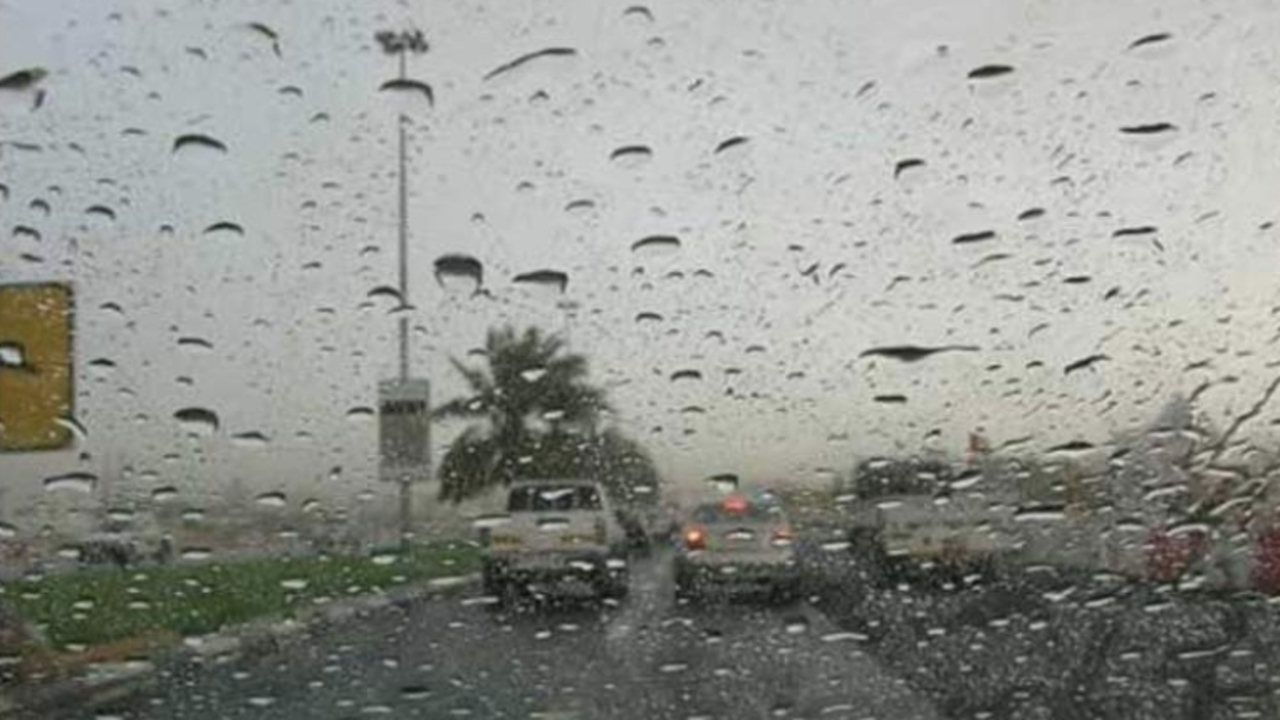car: (478, 486, 634, 595), (677, 494, 799, 601), (73, 513, 177, 570)
truck: (841, 454, 1022, 593)
